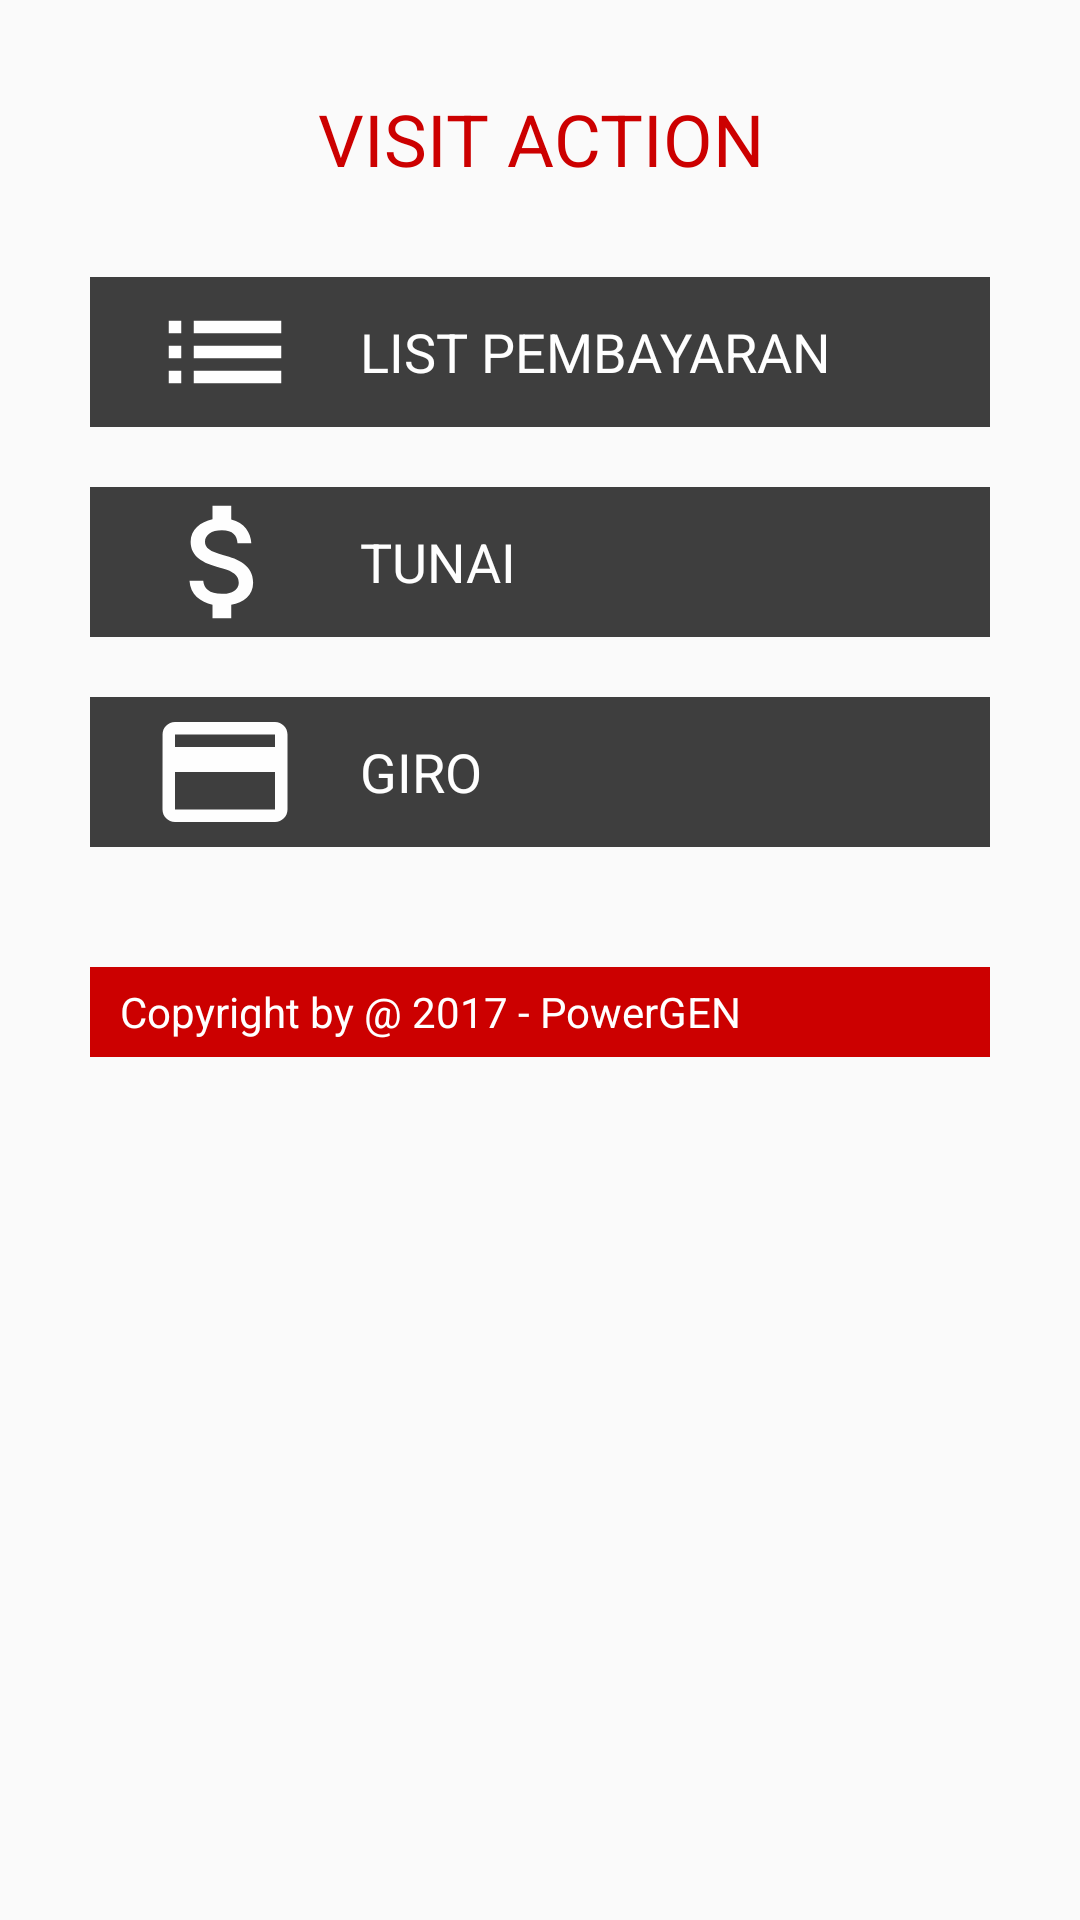

Named icons in this screenshot (1080 x 1920) and their centers, (x,y):
attach money: (225,562)
payment: (225,772)
